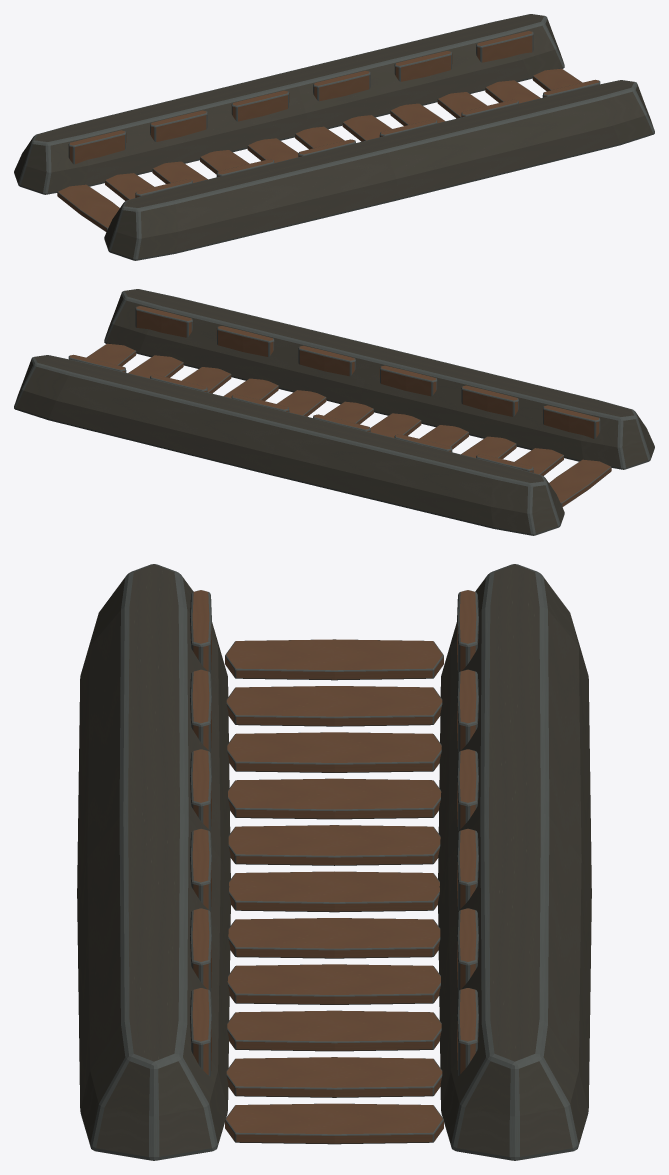
The model's file is trench.glb.
3 views of the same model, one above another, from view 1: azimuth 30°, elevation 25°; view 2: azimuth 150°, elevation 25°; view 3: azimuth 270°, elevation 25° (orthographic). The views are drawn at different scales.
Visible parts, largest first — view 1: GT_0130_trench; view 2: GT_0130_trench; view 3: GT_0130_trench.
Boxes of the visible parts, bbox=[...] form: GT_0130_trench: bbox=[14, 14, 654, 260]; GT_0130_trench: bbox=[14, 289, 654, 535]; GT_0130_trench: bbox=[77, 564, 591, 1160].
Bounding box in the file's own units: 7.97 × 0.6 × 3.28.
1 material, 1 textured.
